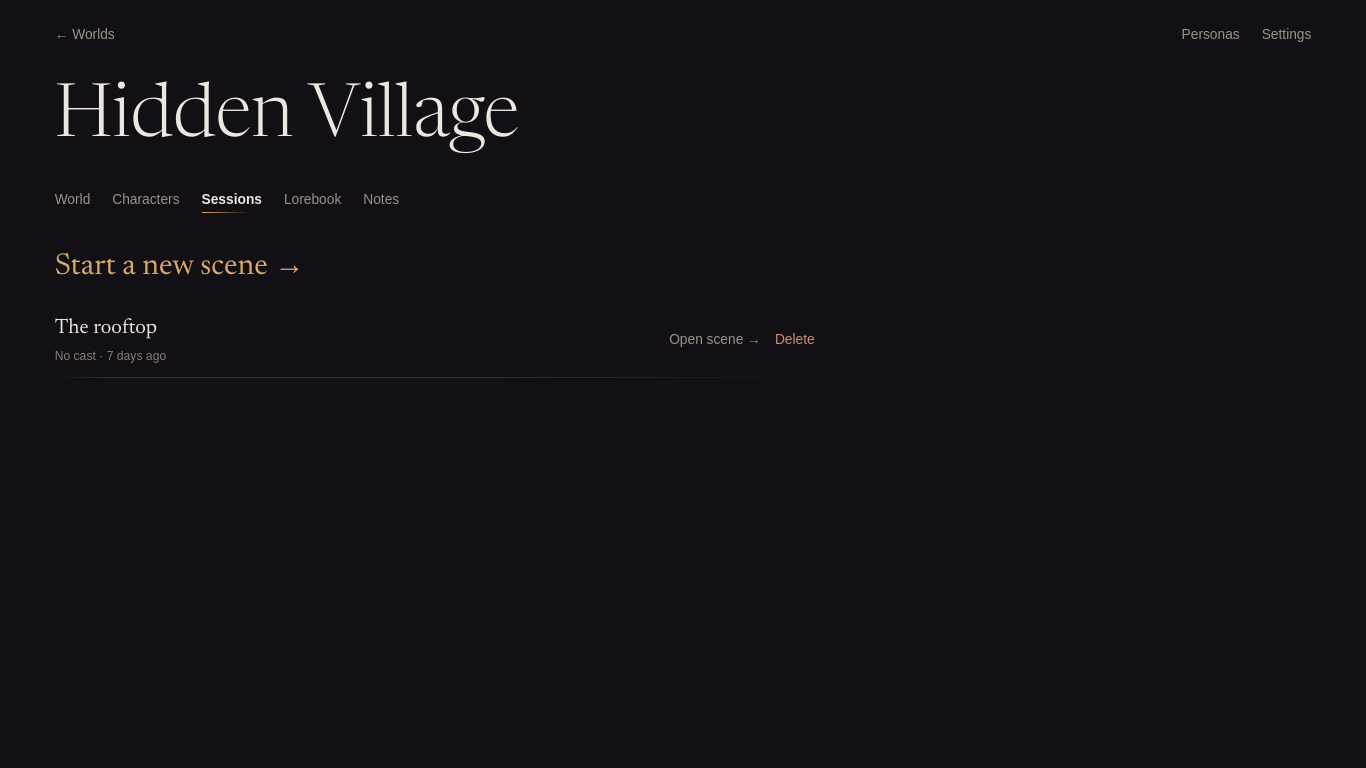
Test: the sessions tab › promises memories survive deleting a scene
Click the button "Delete" at coordinates (795, 339), box top-left (775, 331), bottom-right (815, 348)
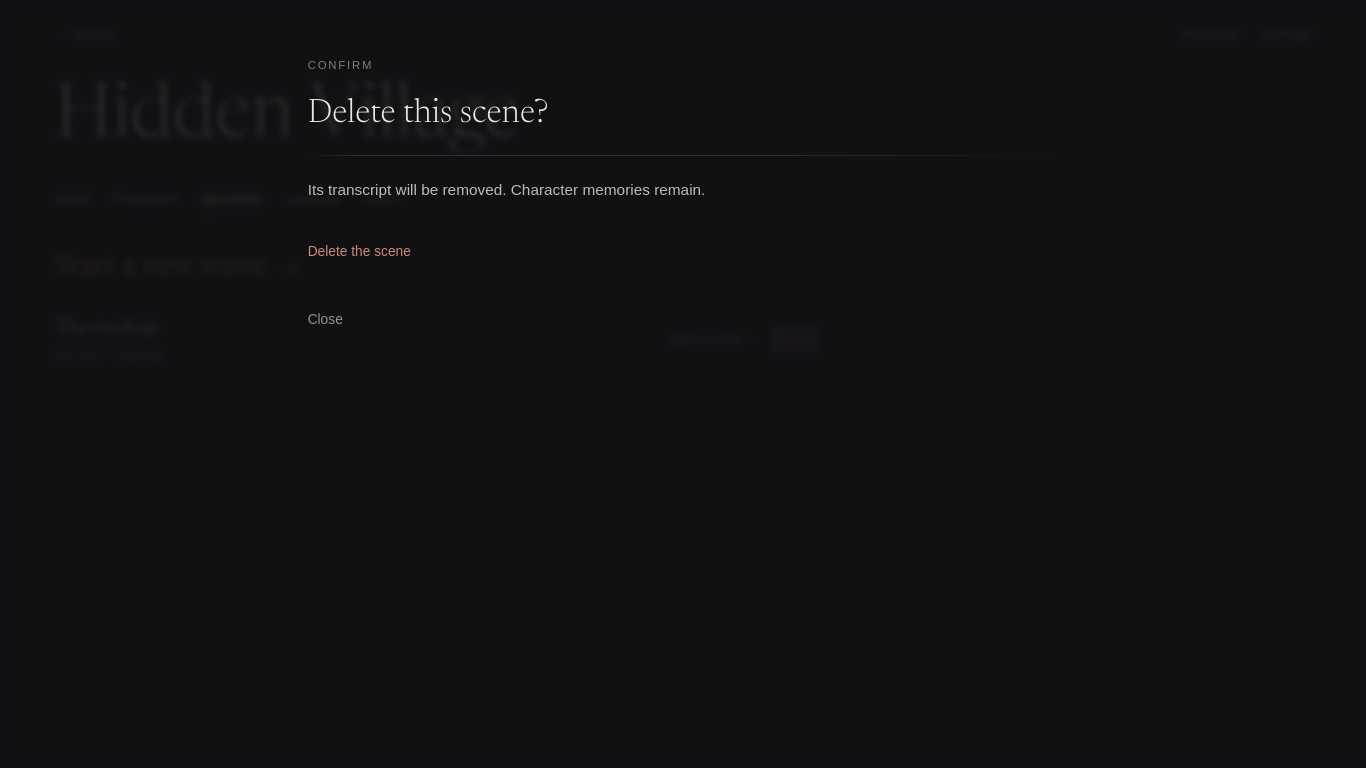
Now the text "Its transcript will be removed. Character memories remain." is shown, box top-left (308, 181), bottom-right (705, 198)
